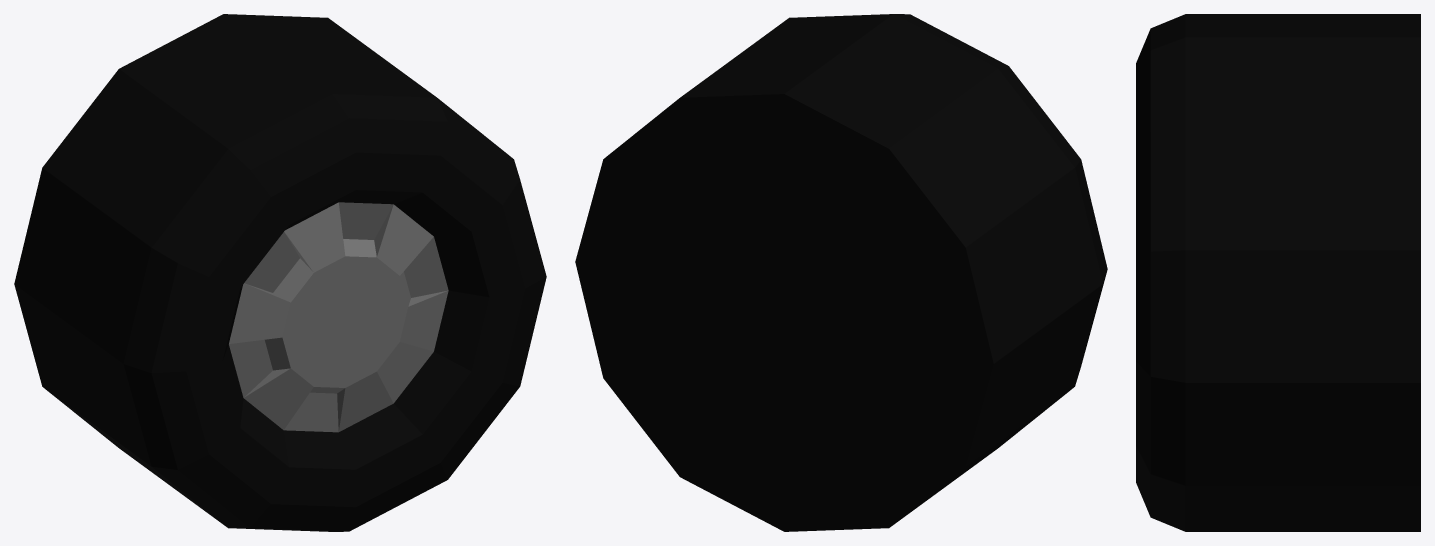
File: wheelL.fbx
The picture shows the model from 3 angles, left to right: view 1: azimuth 30°, elevation 25°; view 2: azimuth 150°, elevation 25°; view 3: azimuth 270°, elevation 25°; orthographic projection. The views are drawn at different scales.
Visible parts, largest first — view 1: WheelL; view 2: WheelL; view 3: WheelL.
Part boxes in pixels (x1=…): WheelL: x1=14, y1=14, x2=546, y2=531; WheelL: x1=575, y1=14, x2=1107, y2=531; WheelL: x1=1136, y1=14, x2=1420, y2=531.
Bounding box in the file's own units: 54.44 × 99.38 × 99.38.
